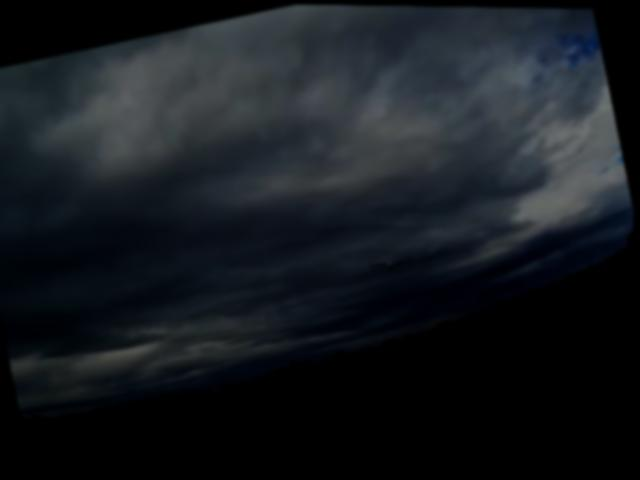uav: (367, 247, 417, 274)
